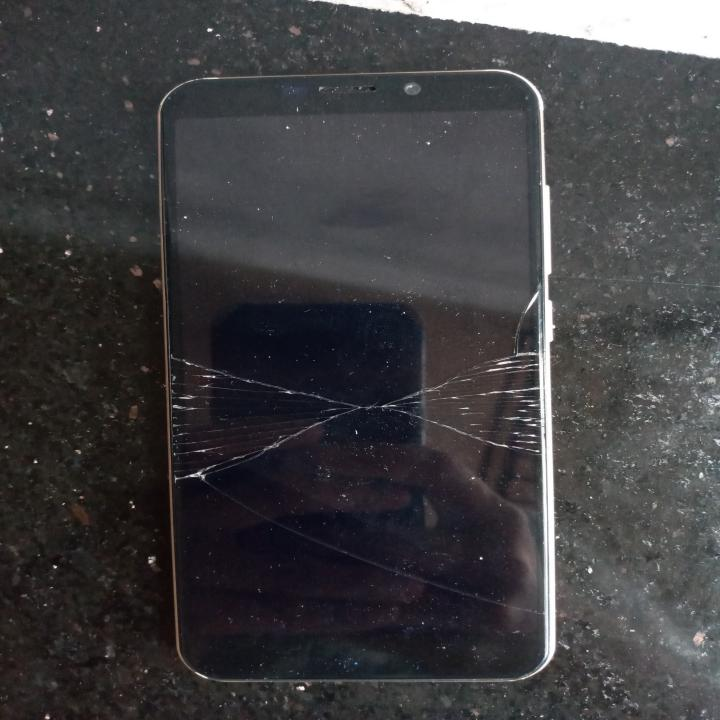Crack: (170, 287, 550, 496)
